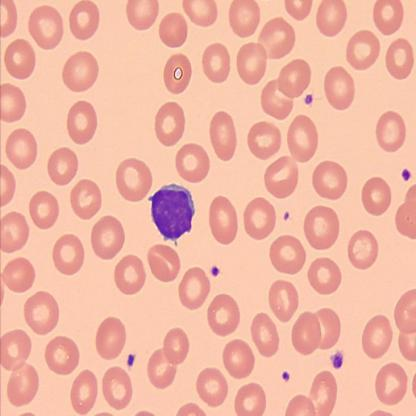Lymphocyte: (147, 182, 196, 246)
